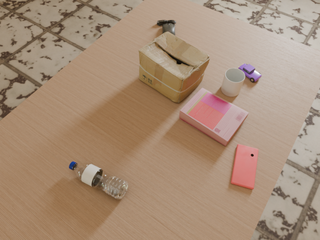book: (179, 88, 248, 146)
bottle: (69, 162, 129, 199)
box: (139, 32, 210, 103)
cup: (221, 68, 245, 97)
mouse: (157, 20, 176, 35)
phone: (231, 144, 258, 189)
toy_car: (238, 64, 261, 82)
